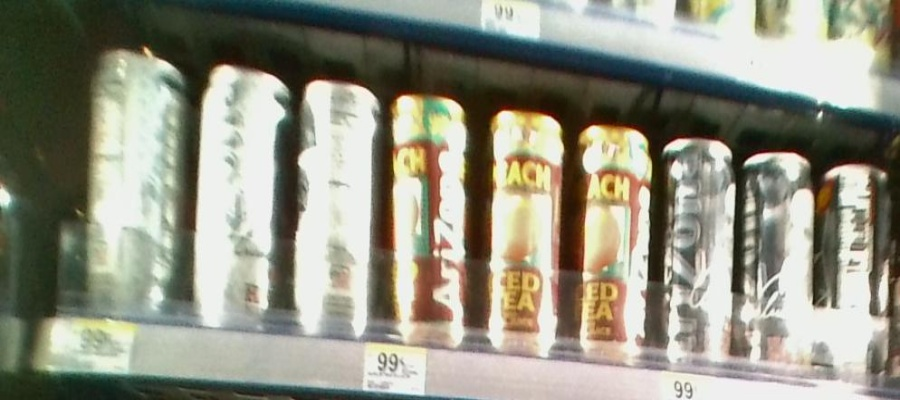bottle: (80, 48, 187, 318), (192, 55, 291, 327), (297, 58, 385, 349), (388, 73, 478, 347), (479, 88, 567, 366), (570, 93, 656, 373), (662, 125, 737, 380), (742, 129, 817, 373), (822, 143, 895, 389)
